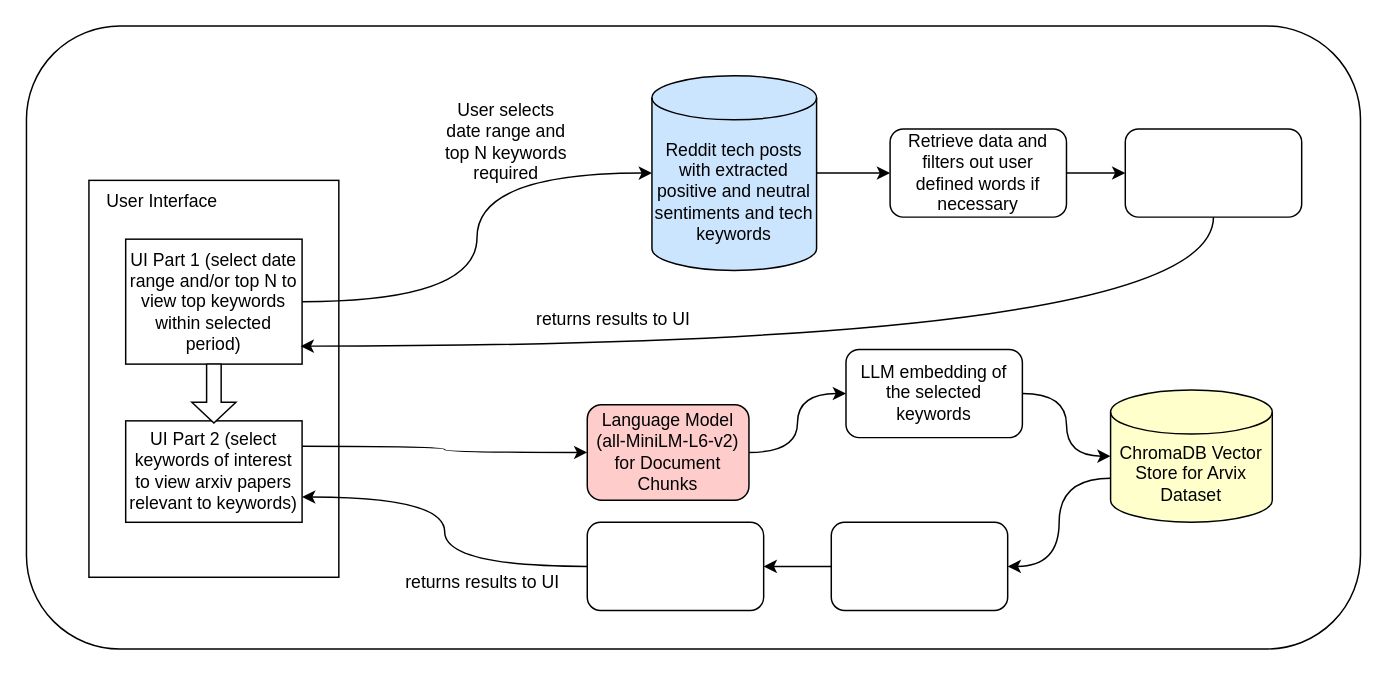
Image size: 1386x675. Some labels were removed from this diagram. Each missing label, with the centre of its shape:
"Document chunks of retrieved Arxiv papers info and summary" goes at pixel 919 565.
"Generate insights on keywords using Gemma-2B LLM if necessary" goes at pixel 1213 172.
"Obtain relevant Arxiv papers info from Metadata of retrieved chunks" goes at pixel 675 565.
